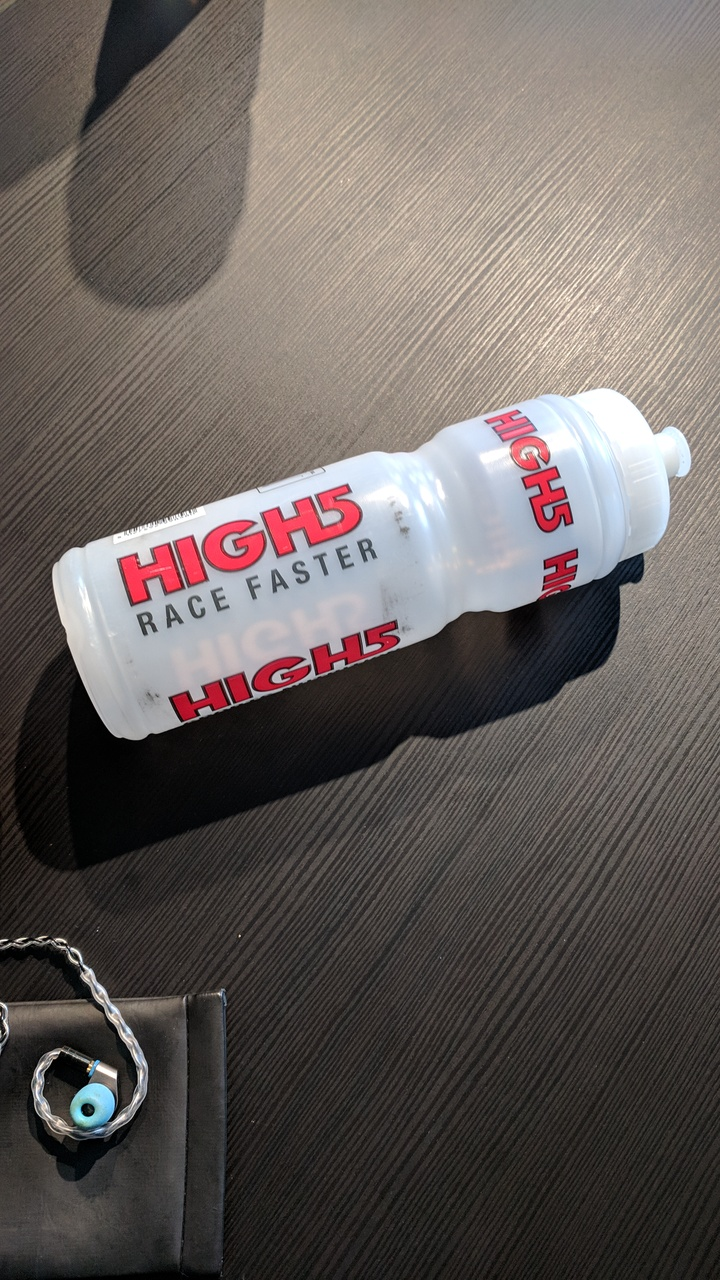high five bottle: (38, 387, 698, 749)
